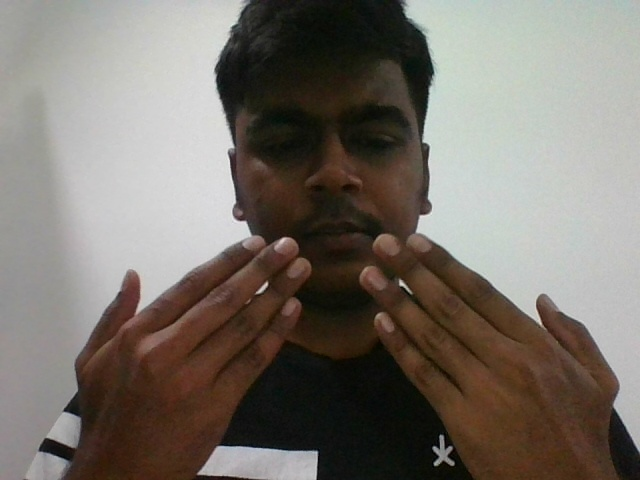thankyou: (93, 235, 593, 412)
